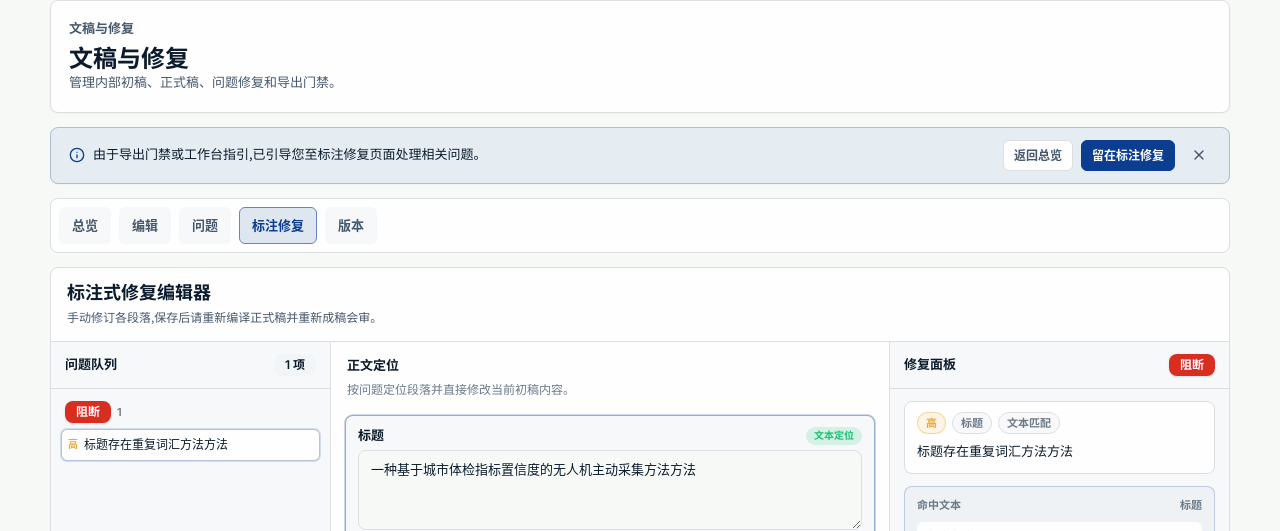
Test: DocumentRepairWorkspace › renders navigation guidance band when requestedTab is provided and dismisses it on close
Expected: the text "由于导出门禁或工作台指引，已引导您至标注修复页面处理相关问题。" is shown, [93,146,487,165]
Click the button named "关闭提示" at x=1199, y=156, box [1187,144,1211,168]
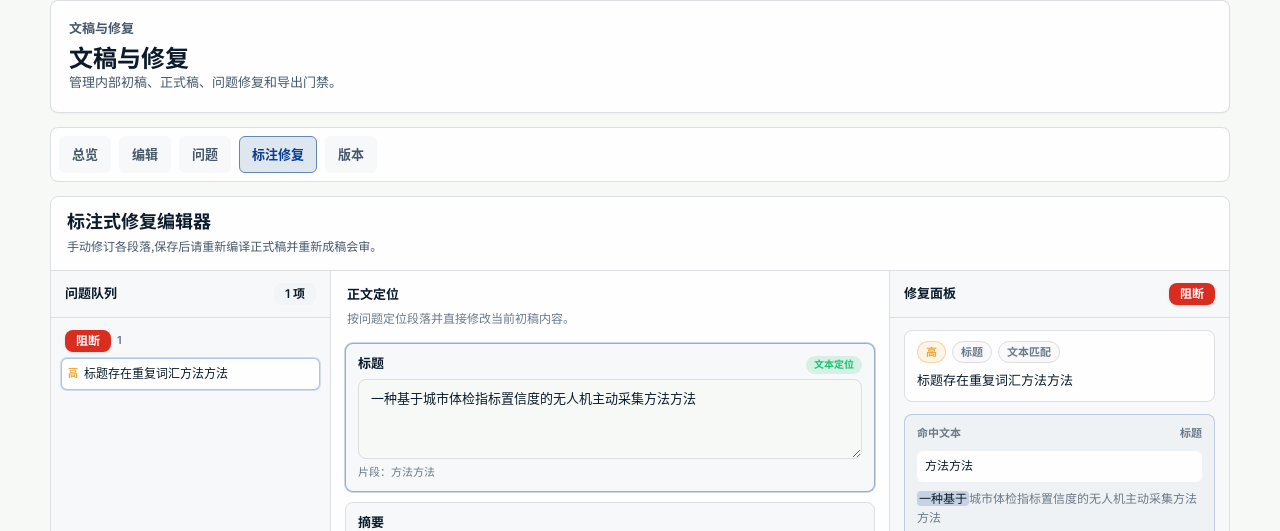
Now the text "由于导出门禁或工作台指引，已引导您至标注修复页面处理相关问题。" is gone
